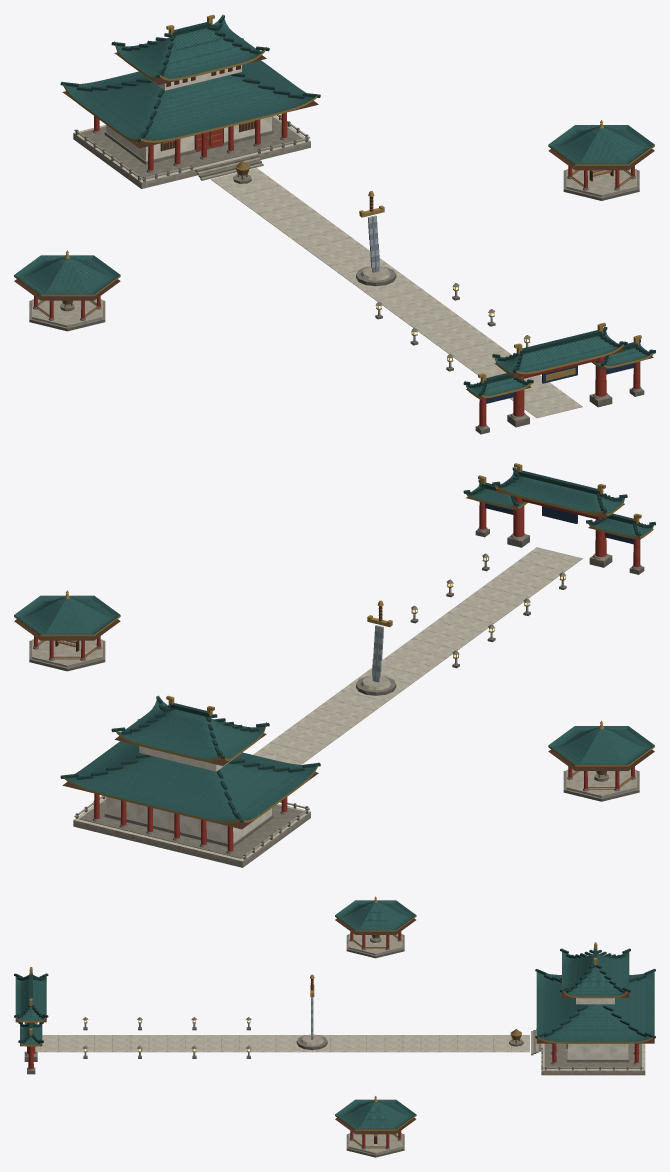
The model's file is arch_sect.bd13b2292b.glb.
The picture shows the model from 3 angles, top to bottom: view 1: azimuth 30°, elevation 25°; view 2: azimuth 150°, elevation 25°; view 3: azimuth 270°, elevation 25°; orthographic projection. The views are drawn at different scales.
Parts seen in each view (by area): view 1: arch_lac_kiem_tong; view 2: arch_lac_kiem_tong; view 3: arch_lac_kiem_tong.
Boxes of the visible parts, box(x1,y1,x2,y2) form: arch_lac_kiem_tong: box(14, 14, 655, 434); arch_lac_kiem_tong: box(14, 463, 655, 867); arch_lac_kiem_tong: box(14, 896, 655, 1157).
Size of the model in its own units: 120 by 22.59 by 142.
8 materials, 5 textured.
